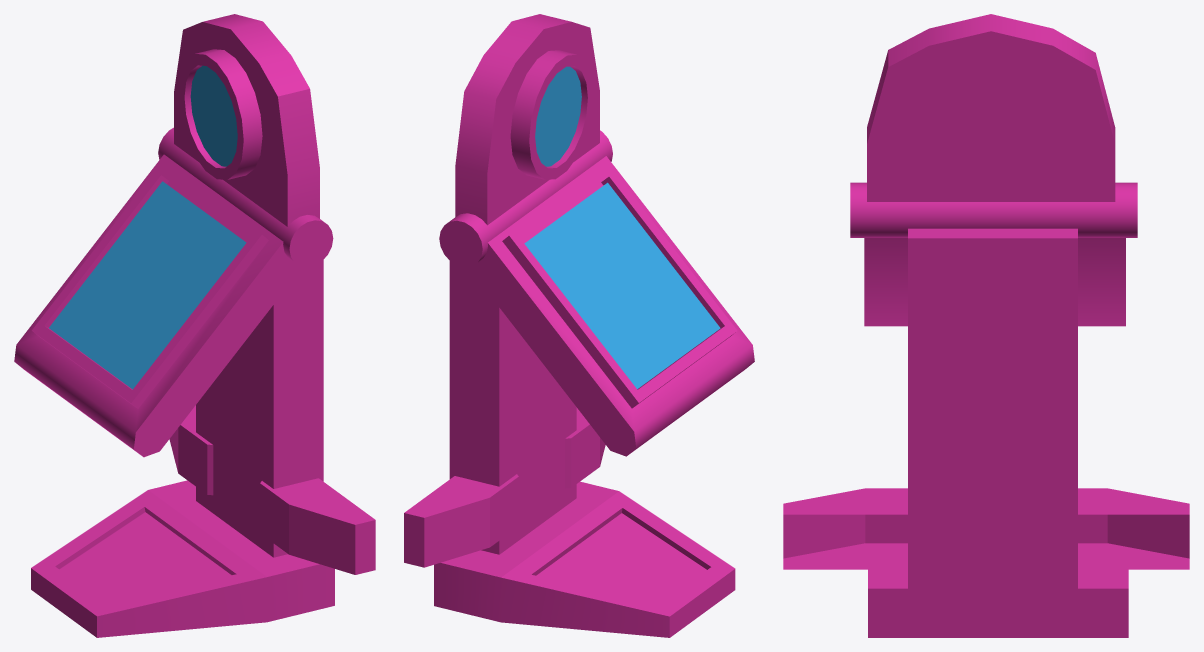
The model's file is SM_Interrupteur_wall.FBX.
3 views of the same model, side by side, from view 1: azimuth 30°, elevation 25°; view 2: azimuth 150°, elevation 25°; view 3: azimuth 270°, elevation 25° (orthographic). The views are drawn at different scales.
Parts seen in each view (by area): view 1: Interrupteur_wall; view 2: Interrupteur_wall; view 3: Interrupteur_wall.
Boxes of the visible parts, box(x1,y1,x2,y2) form: Interrupteur_wall: box(14, 14, 375, 637); Interrupteur_wall: box(404, 14, 754, 637); Interrupteur_wall: box(783, 14, 1189, 637).
Size of the model in its own units: 40.96 by 98 by 60.34.
